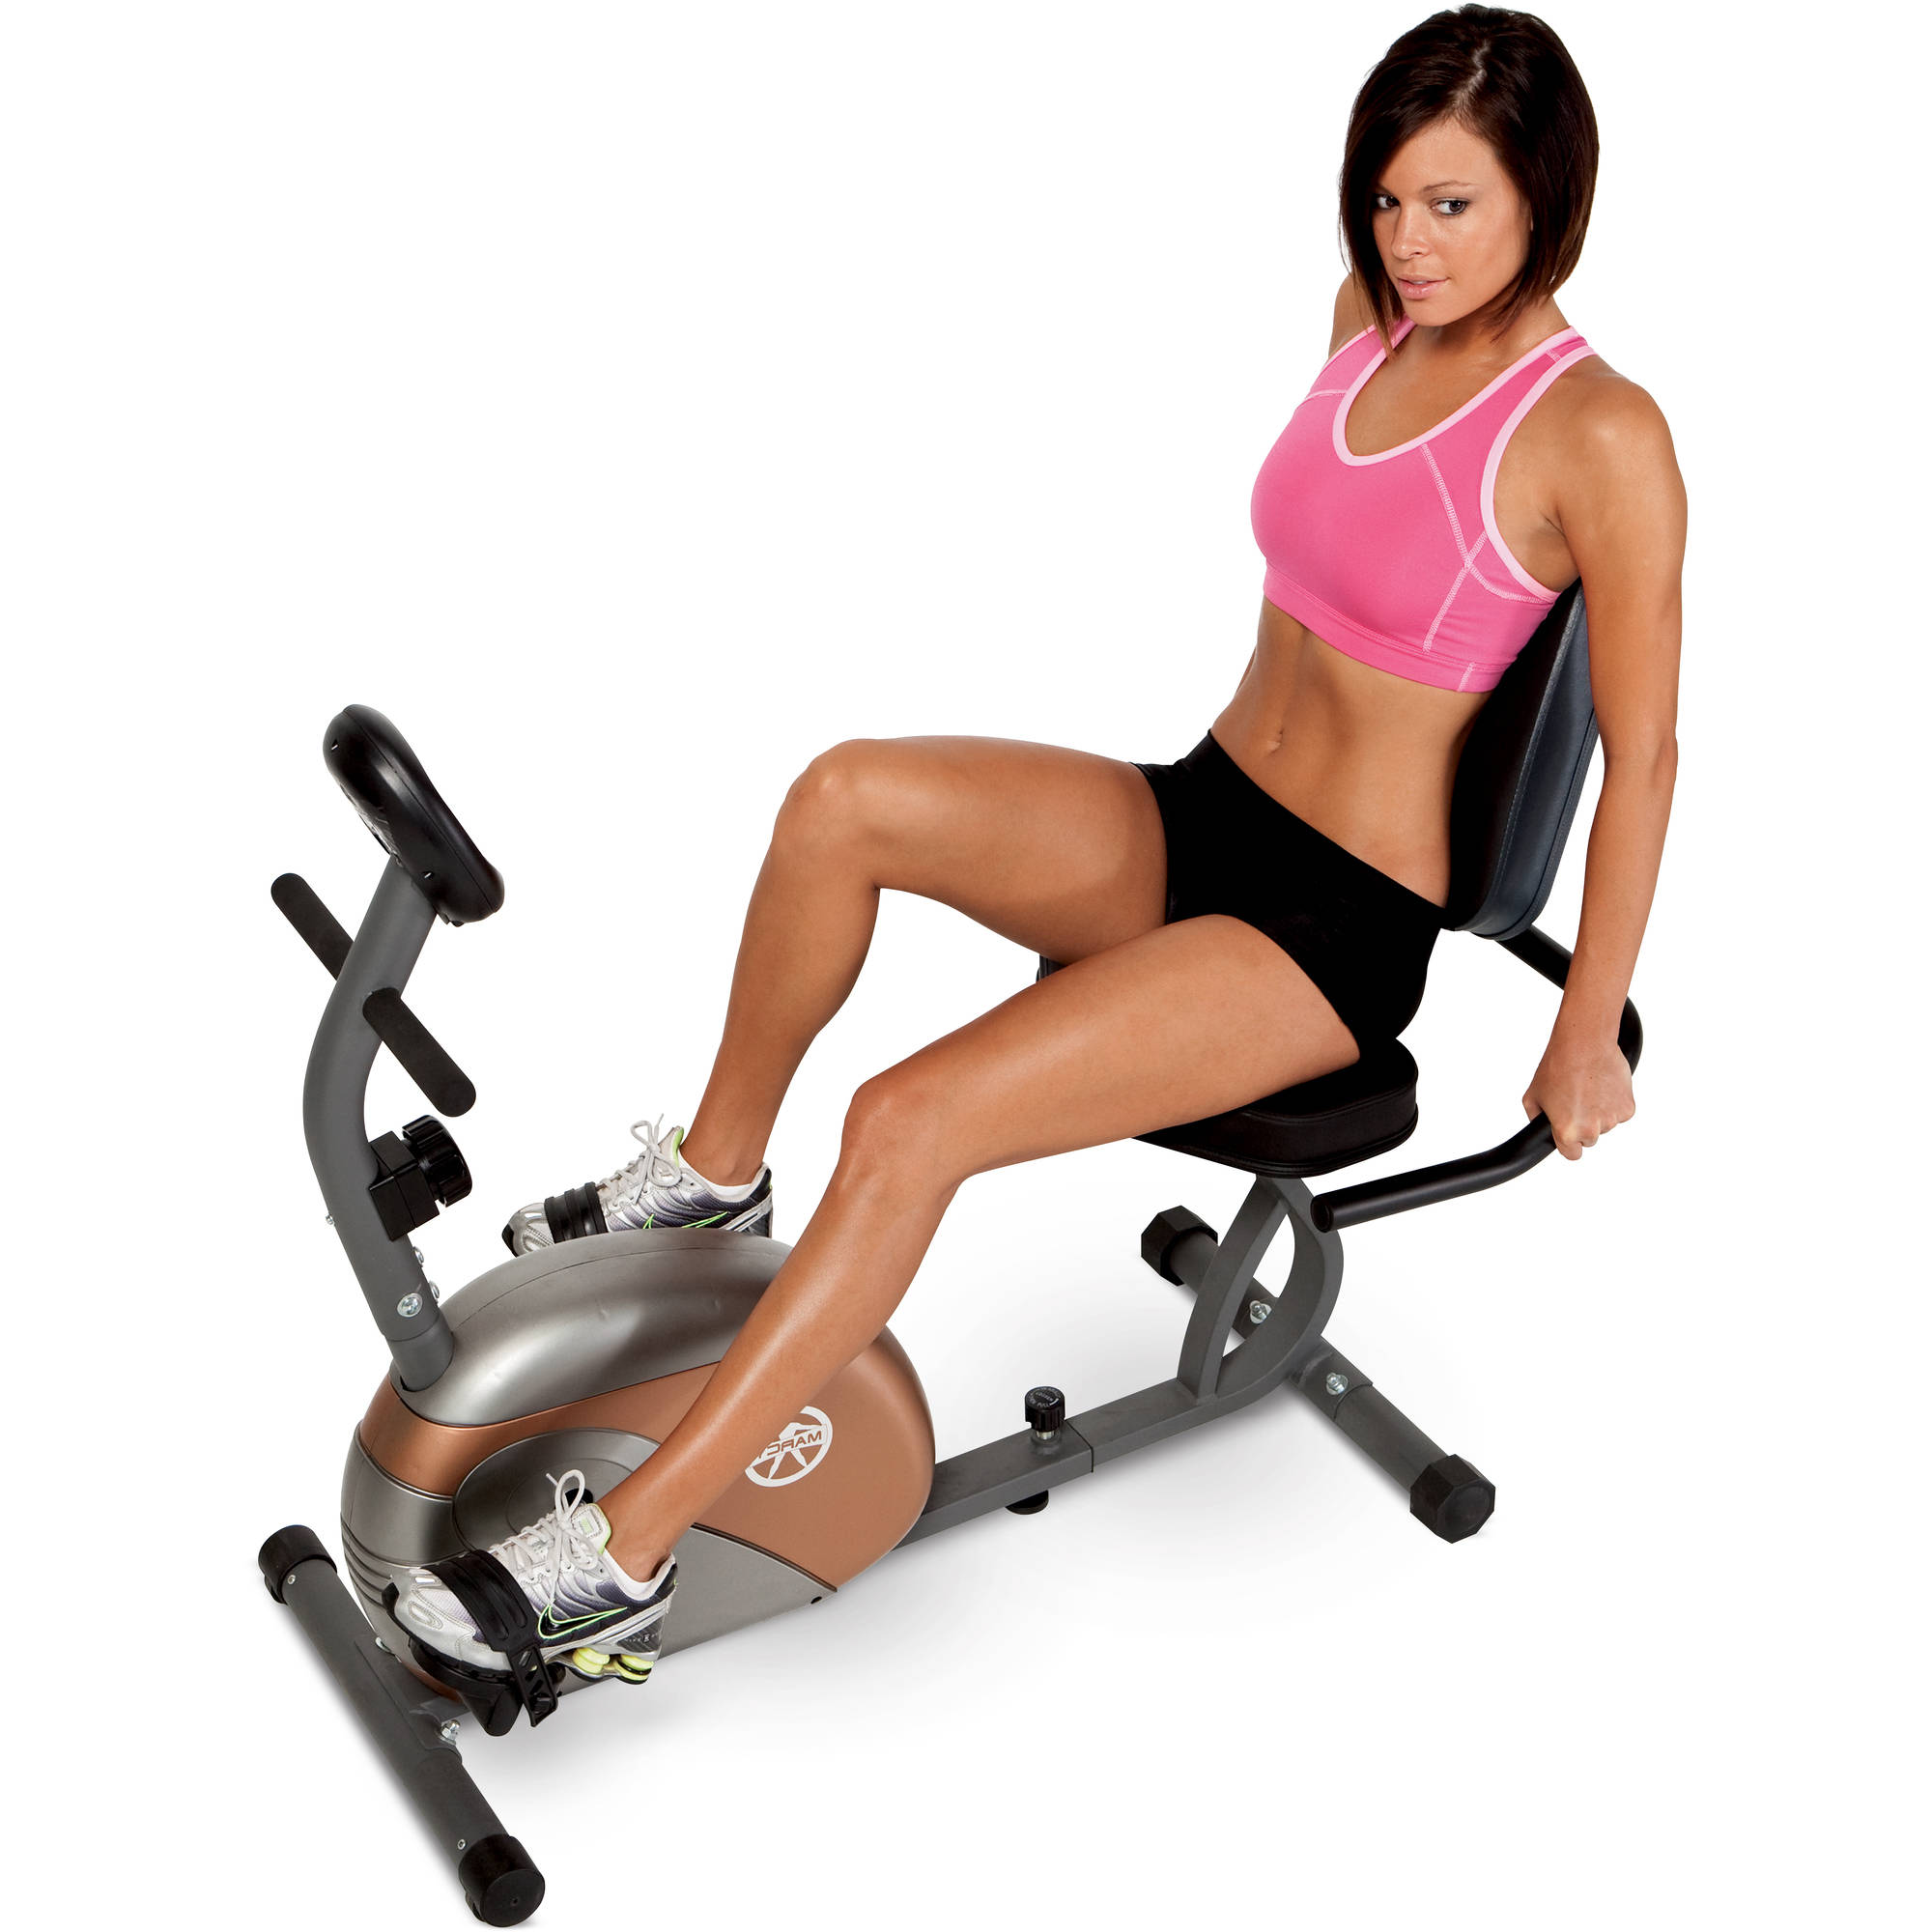gym_bike: (129, 676, 1649, 1870)
